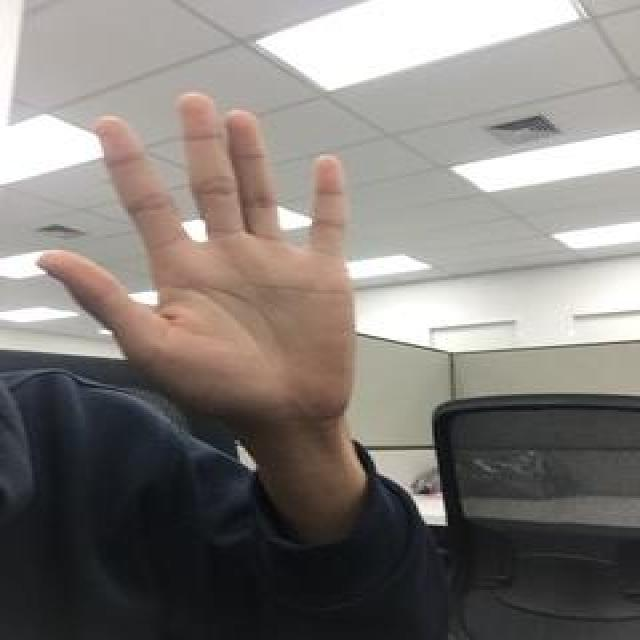hand: (38, 90, 358, 424)
